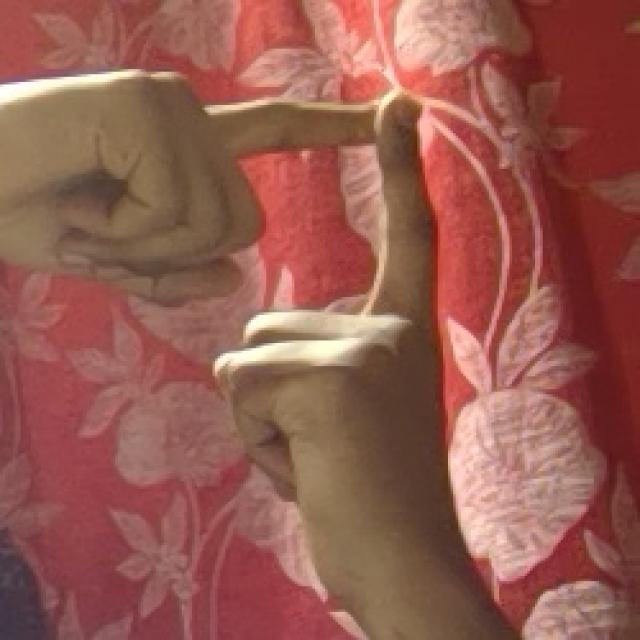Alphabet-E: (41, 53, 501, 608)
